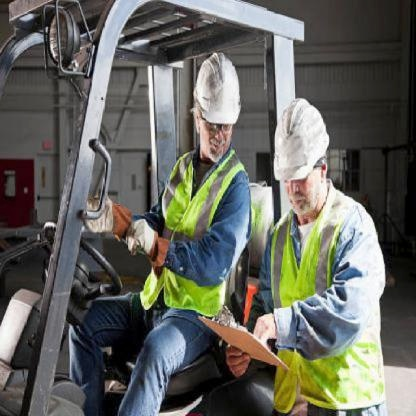vest: (260, 212, 395, 412), (136, 155, 248, 319)
white: (266, 92, 331, 183), (189, 49, 247, 129)
